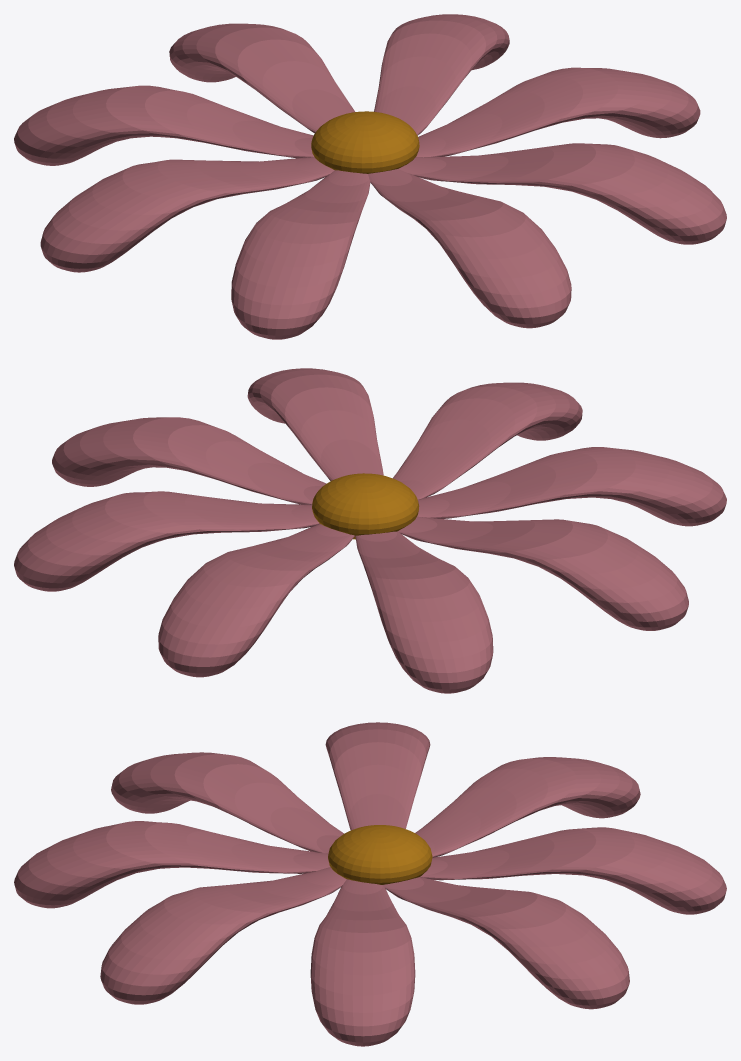
The model's file is withering_flower.obj.
3 views of the same model, one above another, from view 1: azimuth 30°, elevation 25°; view 2: azimuth 150°, elevation 25°; view 3: azimuth 270°, elevation 25° (orthographic). The views are drawn at different scales.
Visible parts, largest first — view 1: Sphere.008_Sphere.012, Sphere.001_Sphere.002; view 2: Sphere.008_Sphere.012, Sphere.001_Sphere.002; view 3: Sphere.008_Sphere.012, Sphere.001_Sphere.002.
Boxes of the visible parts, x1,y1,x2,y2 form: Sphere.008_Sphere.012: [14, 14, 726, 339]; Sphere.001_Sphere.002: [311, 111, 419, 173]; Sphere.008_Sphere.012: [14, 368, 726, 693]; Sphere.001_Sphere.002: [312, 473, 419, 539]; Sphere.008_Sphere.012: [14, 722, 726, 1046]; Sphere.001_Sphere.002: [328, 825, 432, 884].
Size of the model in its own units: 13.61 by 1.55 by 13.61.
